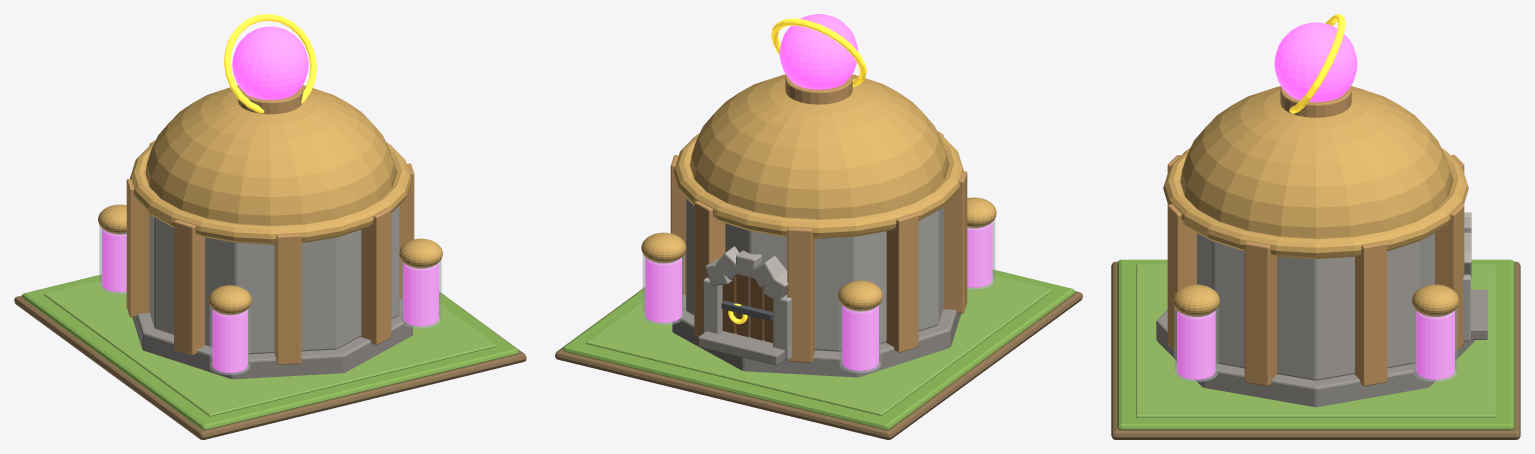
The model's file is laboratory_lv5.glb.
The picture shows the model from 3 angles, left to right: view 1: azimuth 30°, elevation 25°; view 2: azimuth 150°, elevation 25°; view 3: azimuth 270°, elevation 25°; orthographic projection. The views are drawn at different scales.
Parts seen in each view (by area): view 1: LabDome, LabWallDrum, Base_Inner, Base_Grass, LabDomeRim, LabPlinth, Base_Dirt, ArcaneOrb, LabPillar_4, LabPillar_6, LabPillar_5, LabPillar_3 (+12 smaller); view 2: LabDome, Base_Inner, LabWallDrum, Base_Grass, LabDomeRim, Base_Dirt, LabPlinth, ArcaneOrb, LabPillar_3, LabPillar_2, LabPillar_4, SideVatGlass_1 (+21 smaller); view 3: LabDome, LabWallDrum, Base_Inner, Base_Grass, LabDomeRim, Base_Dirt, LabPlinth, ArcaneOrb, LabPillar_0, LabPillar_7, SideVatGlass_0, SideVatGlass_3 (+10 smaller).
Boxes of the visible parts, box(x1,y1,x2,y2) form: LabDome: box(145, 85, 395, 225); LabWallDrum: box(149, 205, 399, 354); Base_Inner: box(44, 280, 496, 416); Base_Grass: box(22, 274, 518, 430); LabDomeRim: box(130, 142, 411, 244); LabPlinth: box(132, 299, 412, 379); Base_Dirt: box(14, 291, 526, 439); ArcaneOrb: box(232, 26, 308, 99); LabPillar_4: box(174, 219, 205, 355); LabPillar_6: box(360, 208, 391, 344); LabPillar_5: box(274, 233, 301, 364); LabPillar_3: box(126, 179, 149, 317); LabDome: box(690, 74, 947, 218); Base_Inner: box(586, 275, 1052, 415); LabWallDrum: box(686, 198, 943, 351); Base_Grass: box(563, 269, 1074, 429); LabDomeRim: box(674, 133, 963, 238); Base_Dirt: box(555, 287, 1082, 439); LabPlinth: box(672, 294, 960, 377); ArcaneOrb: box(779, 14, 858, 89); LabPillar_3: box(886, 213, 918, 352); LabPillar_2: box(787, 227, 814, 362); LabPillar_4: box(943, 171, 967, 313); SideVatGlass_1: box(839, 302, 881, 373); LabDome: box(1180, 86, 1451, 238); LabWallDrum: box(1197, 233, 1434, 380); Base_Inner: box(1136, 264, 1495, 417); Base_Grass: box(1117, 259, 1514, 430); LabDomeRim: box(1163, 148, 1468, 258); Base_Dirt: box(1111, 261, 1520, 439); LabPlinth: box(1156, 310, 1475, 407); ArcaneOrb: box(1274, 22, 1357, 102); LabPillar_0: box(1354, 241, 1387, 386); LabPillar_7: box(1244, 241, 1277, 386); SideVatGlass_0: box(1413, 307, 1457, 382); SideVatGlass_3: box(1174, 307, 1218, 382).
Size of the model in its own units: 2.76 by 2.49 by 2.76.
